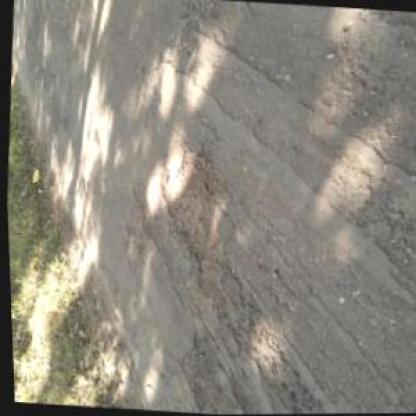pothole: (152, 148, 233, 272), (172, 332, 225, 414)
